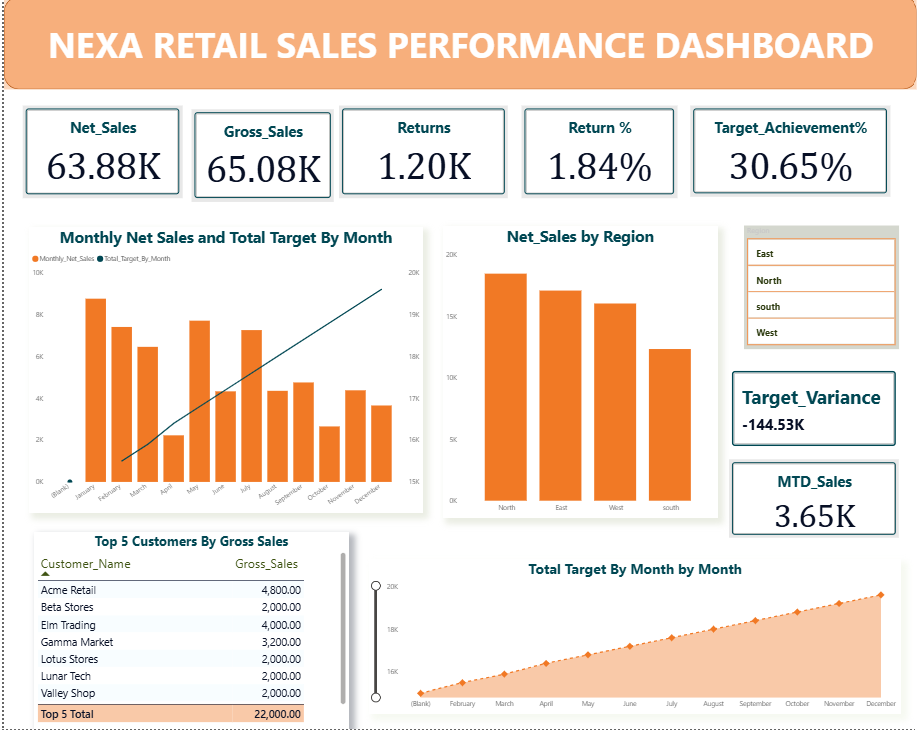

The dashboard page shown, as its layout file describes it:
{"tool":"powerbi","page":{"name":"Page 1","canvas":[1490,1200],"ordinal":0},"visuals":[{"type":"cardVisual","fields":{"Data":["customers.Gross_Sales"]},"box":[305.7,189.5,232.3,150.8],"z":0},{"type":"cardVisual","fields":{"Data":["customers.Returns"]},"box":[562.5,183.4,275.1,150.8],"z":1000},{"type":"cardVisual","fields":{"Data":["customers.Net_Sales"]},"box":[30.6,183.4,260.9,150.8],"z":2000},{"type":"cardVisual","fields":{"Data":["customers.Return_Rate"]},"box":[849,183.4,254.8,150.8],"z":3000},{"type":"cardVisual","fields":{"Data":["customers.MTD_Sales"]},"box":[1182.1,760.2,277.2,128.4],"z":4000},{"type":"lineClusteredColumnComboChart","title":"Monthly Net Sales and Total Target By Month","fields":{"Y2":["DateTable.Total_Target_By_Month"],"Category":["MonthTable.MonthStart.Variation.Date Hierarchy.Month"],"Y":["customers.Monthly_Net_Sales"]},"box":[40.8,381.1,642,466.7],"z":5000},{"type":"tableEx","title":"Top 5 Customers By Gross Sales","fields":{"Values":["customers.Column2","customers.Gross_Sales"]},"box":[48.9,878.4,513.6,322],"z":6000},{"type":"cardVisual","fields":{"Data":["DateTable.Target_Achievement%"]},"box":[1118.9,183.4,326.1,150],"z":8000},{"type":"cardVisual","fields":{"Data":["DateTable.Target_Variance"]},"box":[1182.1,611.4,277.2,132.5],"z":9000},{"type":"clusteredColumnChart","fields":{"Category":["RegionTable.Region"],"Y":["customers.Net_Sales"]},"box":[715.4,379.1,448.4,476.9],"z":10000},{"type":"shape","box":[0,6.1,1489.8,150.8],"z":11000},{"type":"areaChart","title":"Total Target By Month by Month","fields":{"Category":["MonthTable.MonthStart.Variation.Date Hierarchy.Month"],"Y":["DateTable.Total_Target_By_Month"]},"box":[595.1,923.2,868.2,252.7],"z":12001},{"type":"advancedSlicerVisual","fields":{"Values":["RegionTable.Region"]},"box":[1206.5,379.1,252.7,201.8],"z":12002}]}

Visuals, with their boxes in screenshot pixels (x1, y1, x2, y2), scaled from the page's 1490x1200 canvas onto the 917x732 screenshot:
cardVisual - customers.Gross_Sales: box=[188, 116, 331, 208]
cardVisual - customers.Returns: box=[346, 112, 515, 204]
cardVisual - customers.Net_Sales: box=[19, 112, 179, 204]
cardVisual - customers.Return_Rate: box=[523, 112, 679, 204]
cardVisual - customers.MTD_Sales: box=[728, 464, 898, 542]
"Monthly Net Sales and Total Target By Month" lineClusteredColumnComboChart: box=[25, 232, 420, 517]
"Top 5 Customers By Gross Sales" tableEx: box=[30, 536, 346, 731]
cardVisual - DateTable.Target_Achievement%: box=[689, 112, 889, 203]
cardVisual - DateTable.Target_Variance: box=[728, 373, 898, 454]
clusteredColumnChart - RegionTable.Region x customers.Net_Sales: box=[440, 231, 716, 522]
shape: box=[0, 4, 916, 96]
"Total Target By Month by Month" areaChart: box=[366, 563, 901, 717]
advancedSlicerVisual - RegionTable.Region: box=[743, 231, 898, 354]
